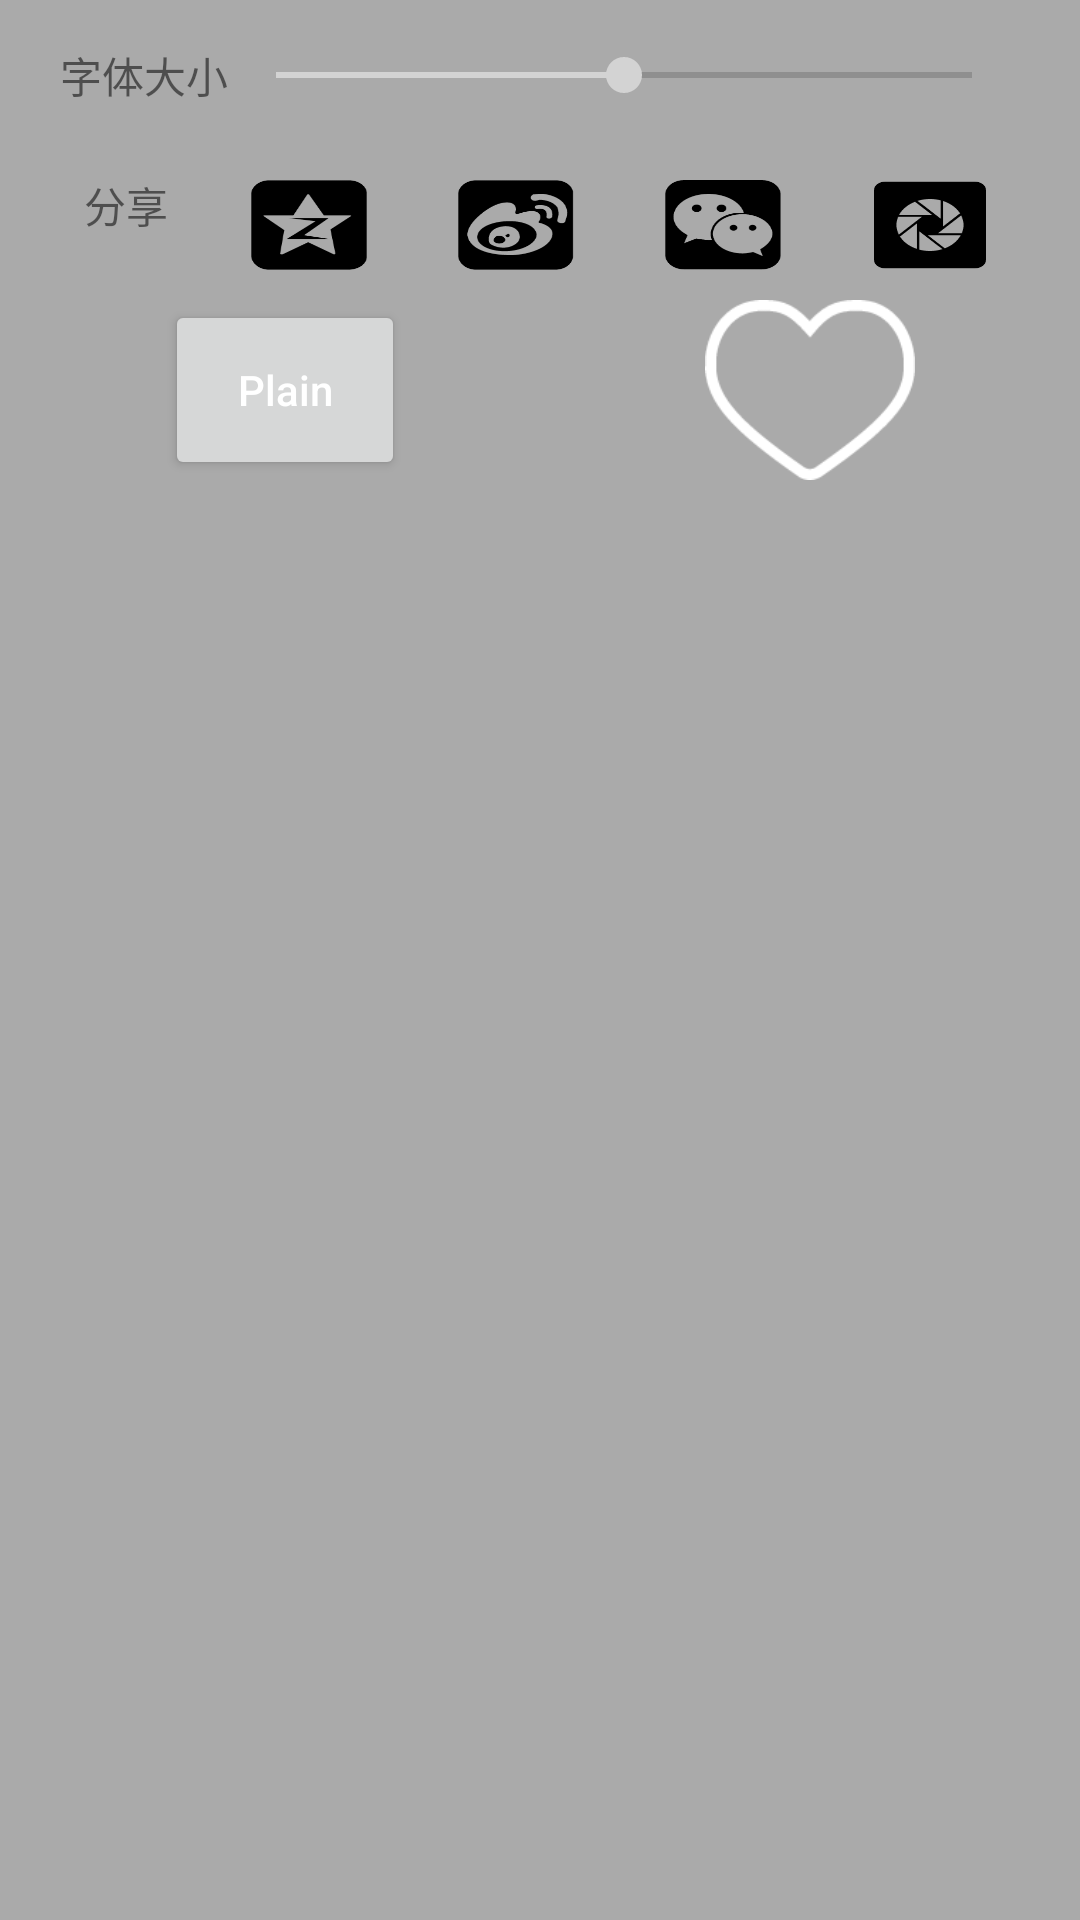

Screen size 1080px×1920px. Icon name, then its box in pixels as [left=x1, top=y1, right=x2, bottom=y2]:
unlike: [left=705, top=300, right=915, bottom=480]
